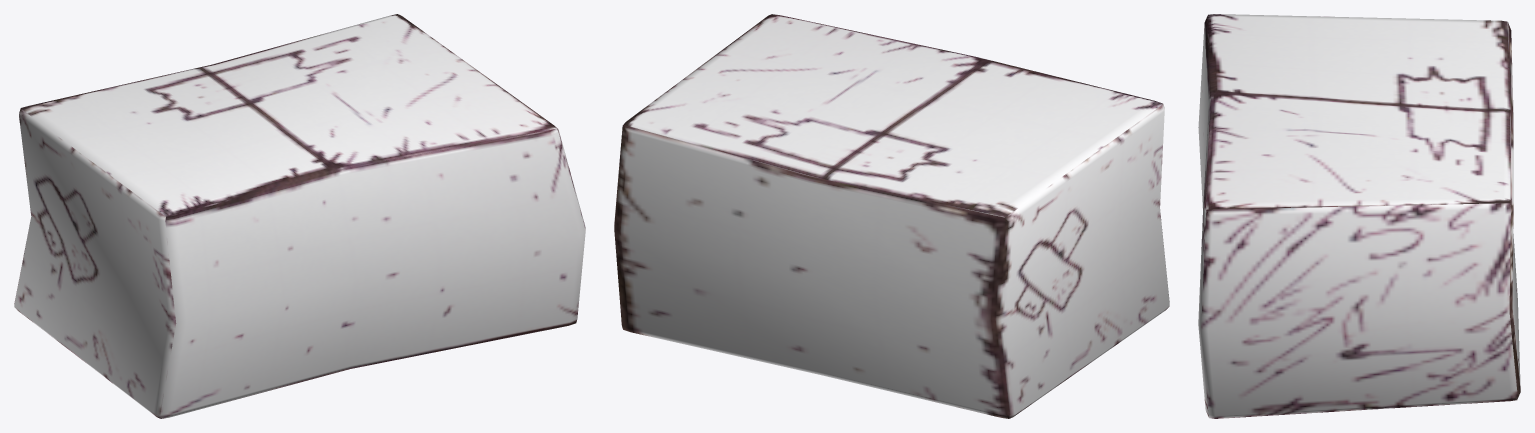
3 views of the same model, side by side, from view 1: azimuth 30°, elevation 25°; view 2: azimuth 150°, elevation 25°; view 3: azimuth 270°, elevation 25° (orthographic).
Visible parts, largest first — view 1: CardboardBox 5; view 2: CardboardBox 5; view 3: CardboardBox 5.
Part boxes in pixels (box(x1,y1,x2,y2)): CardboardBox 5: box(14, 14, 585, 418); CardboardBox 5: box(614, 14, 1169, 418); CardboardBox 5: box(1198, 14, 1520, 418).
Bounding box in the file's own units: 76.6 × 36.55 × 50.36.
1 material, 1 textured.
